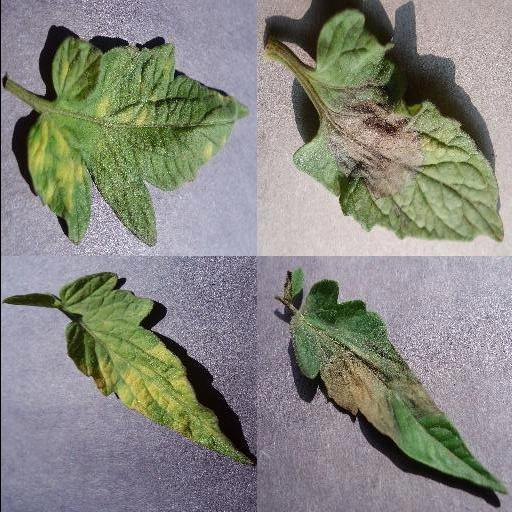Late Blight: (290, 8, 506, 244), (289, 281, 509, 495)
Leaf Mold: (25, 35, 251, 246), (62, 274, 254, 468)
